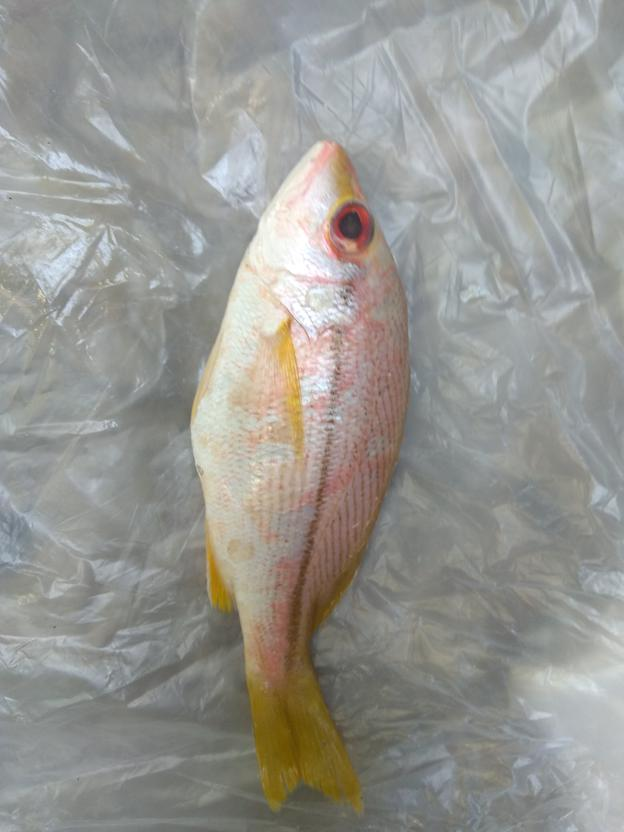Fish head: (235, 139, 396, 338)
Fish tail: (244, 665, 359, 815)
